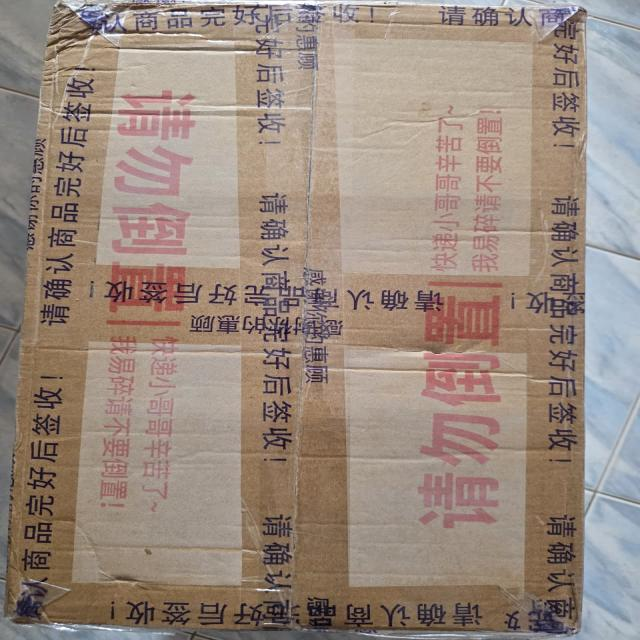carton_box: (2, 0, 612, 640)
package_damage: (20, 0, 151, 60), (403, 330, 476, 372)
